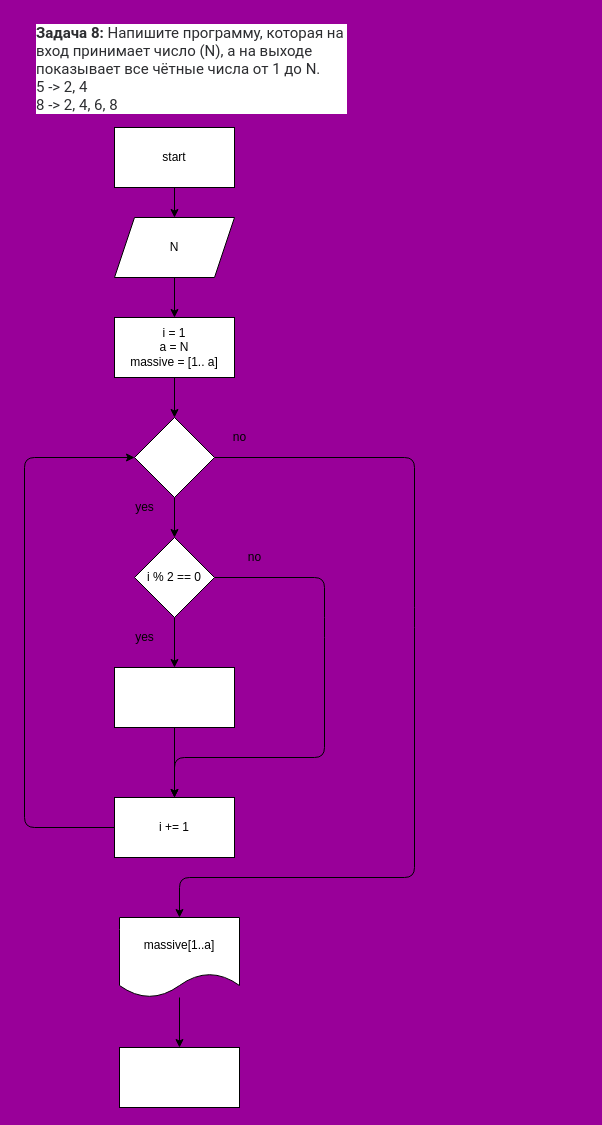
The diagram is 602 pixels wide and 1125 high, and some of its shapes have lost their labels. The box of each missing label's shape, as (x1, y1, x2, y2) in pixels:
end: (118, 1046, 240, 1108)
i<=a: (134, 416, 214, 498)
massive [i]: (114, 666, 234, 728)
